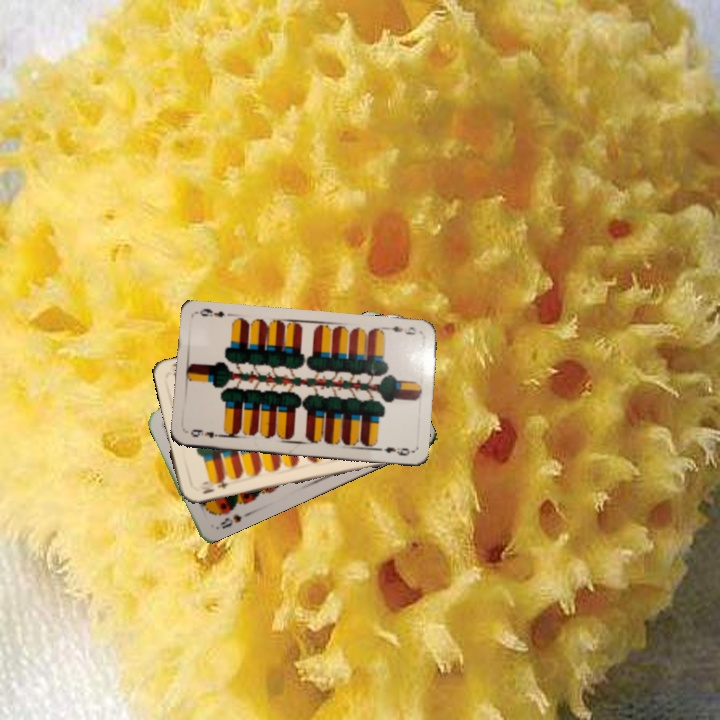E10: (199, 474, 230, 496)
E9: (186, 425, 225, 441), (382, 322, 420, 337)
S8: (216, 510, 244, 532)
